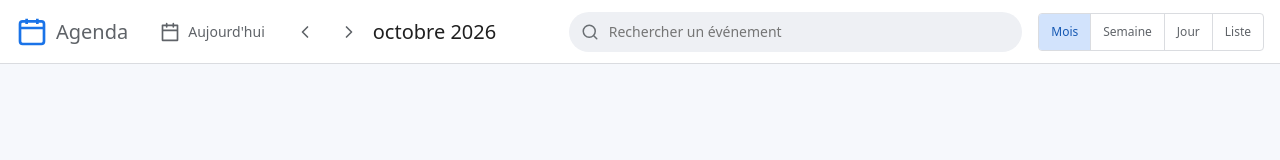
Test: AppHeader › résultats de recherche › affiche une liste de résultats sous la barre pendant la recherche
Step 1. Type "réunion" into the search field with placeholder "Rechercher un événement" → (796, 32), box [569,12,1022,52]
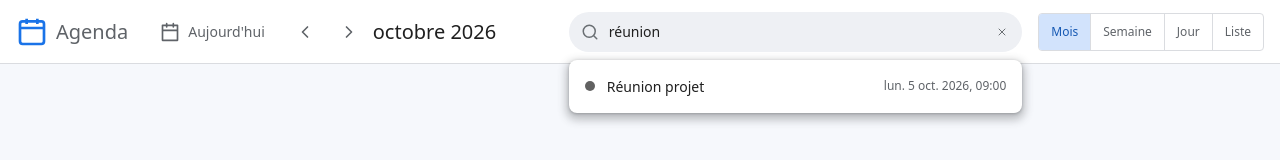
Check: the number of options with class "c-search-results__item" is 1, box [569,68,1022,104]
Check: the option with class "c-search-results__item" shows "Réunion projet", box [569,68,1022,104]
